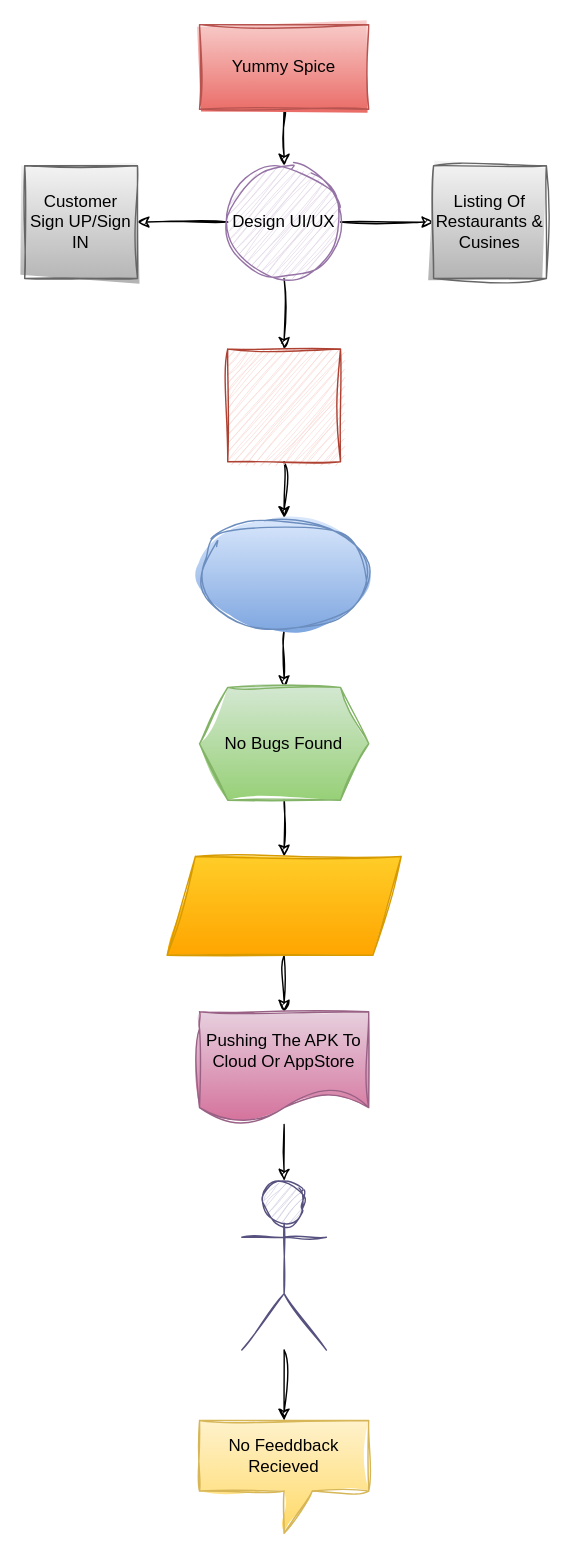
The diagram is 571 pixels wide and 1558 high, and some of its shapes have lost their labels. The shapes that lost their labels are listed below. From the top down, each one's centre as x and y in pixels, then its label:
point 283,405: Checkout Page & RTS
point 283,574: Compiling into apk
point 283,905: Writing Permissions For Deployment
point 283,1264: Customer Using Application
